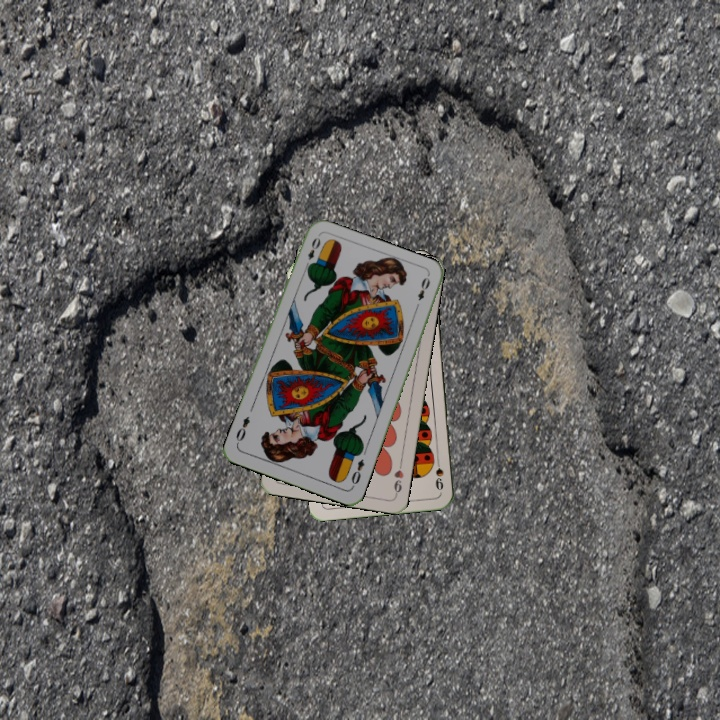EO: (301, 233, 323, 272), (347, 455, 367, 490)
H9: (390, 457, 406, 498)
S9: (431, 453, 446, 493)
